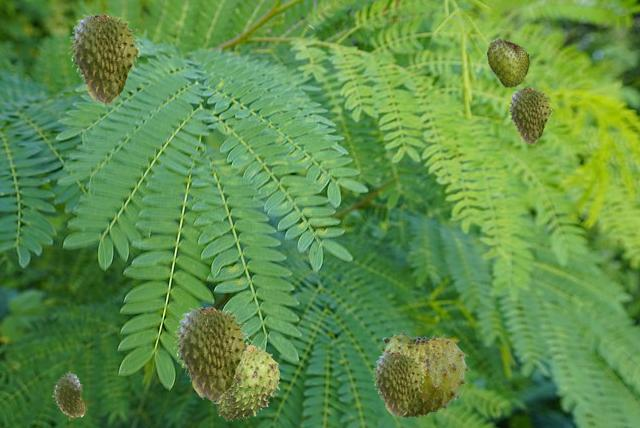guyabano: (381, 330, 469, 417), (173, 306, 251, 402), (68, 13, 142, 105), (213, 345, 279, 420), (372, 351, 425, 417), (507, 87, 553, 144), (487, 37, 528, 86), (52, 371, 86, 420)
